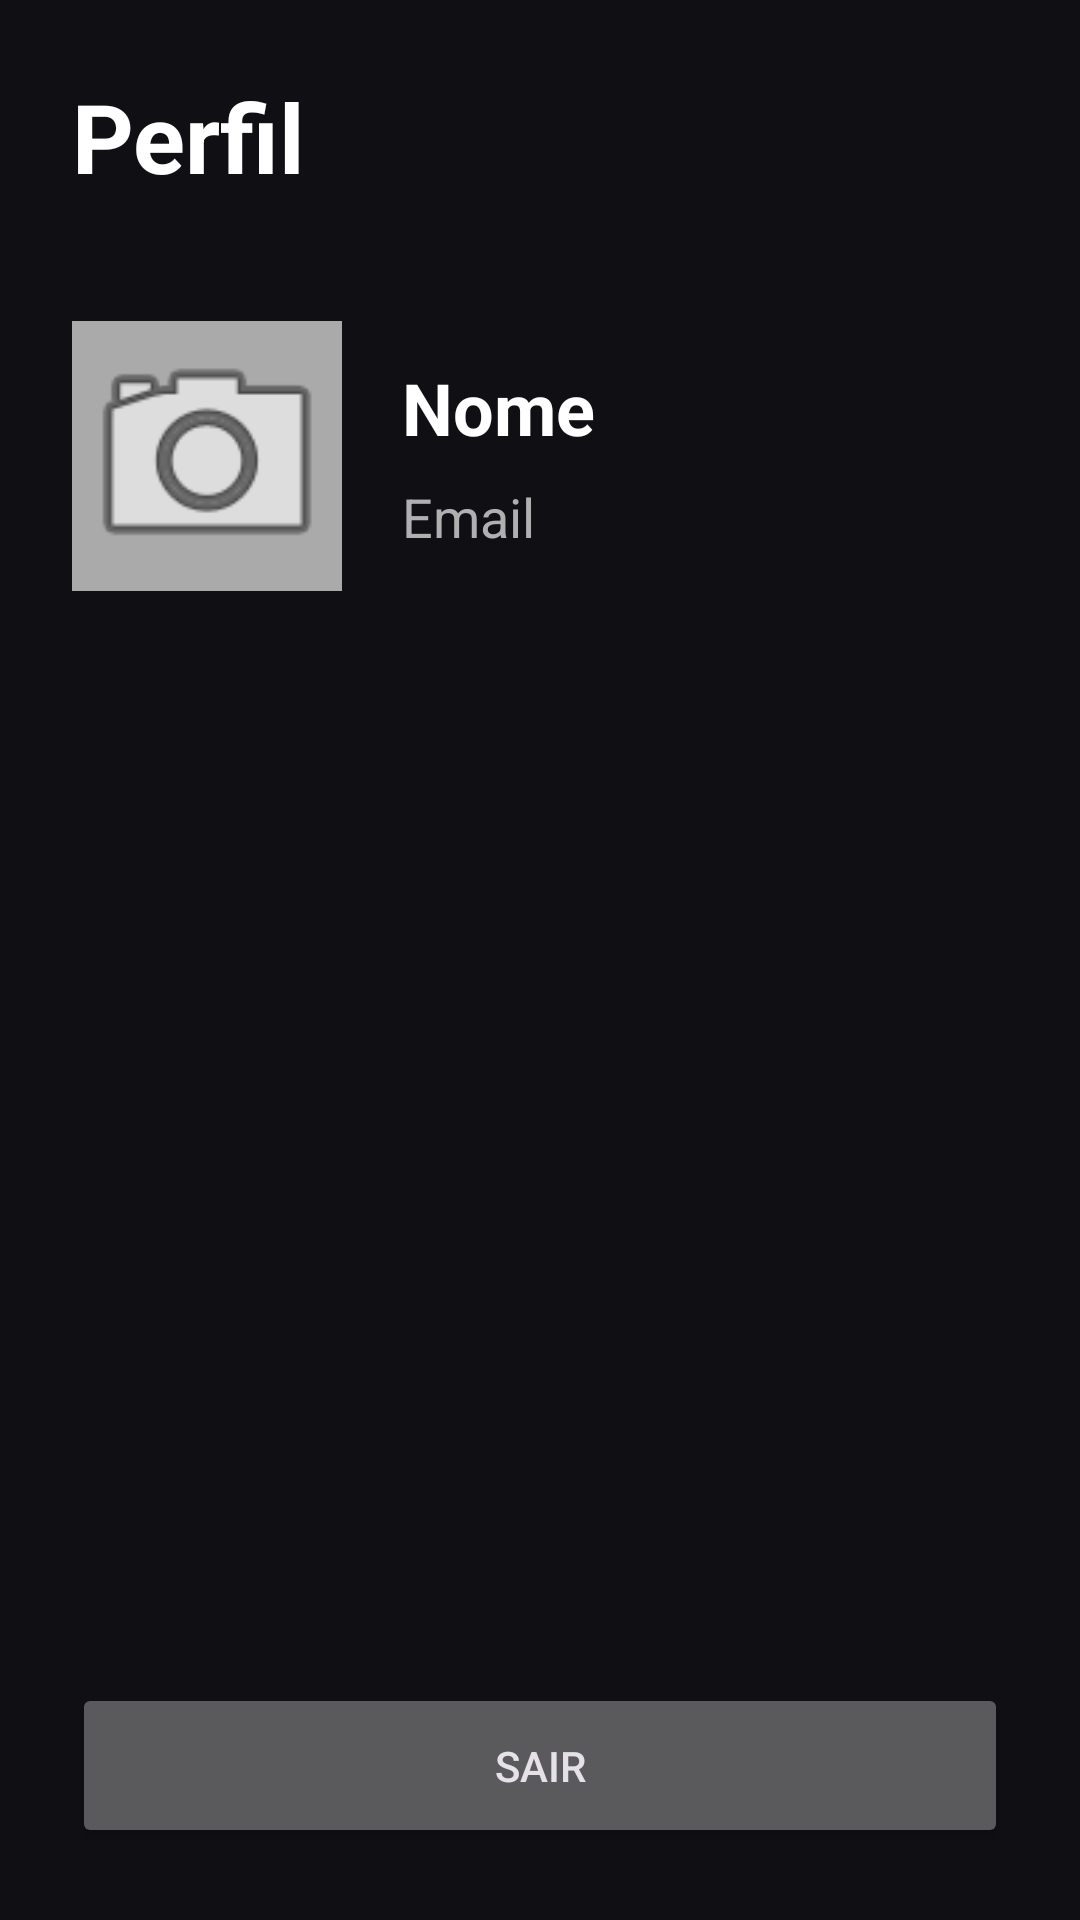

Screen size 1080w x 1920h. Icon name, then its center in pixels as (x,y):
camera: (207,456)
